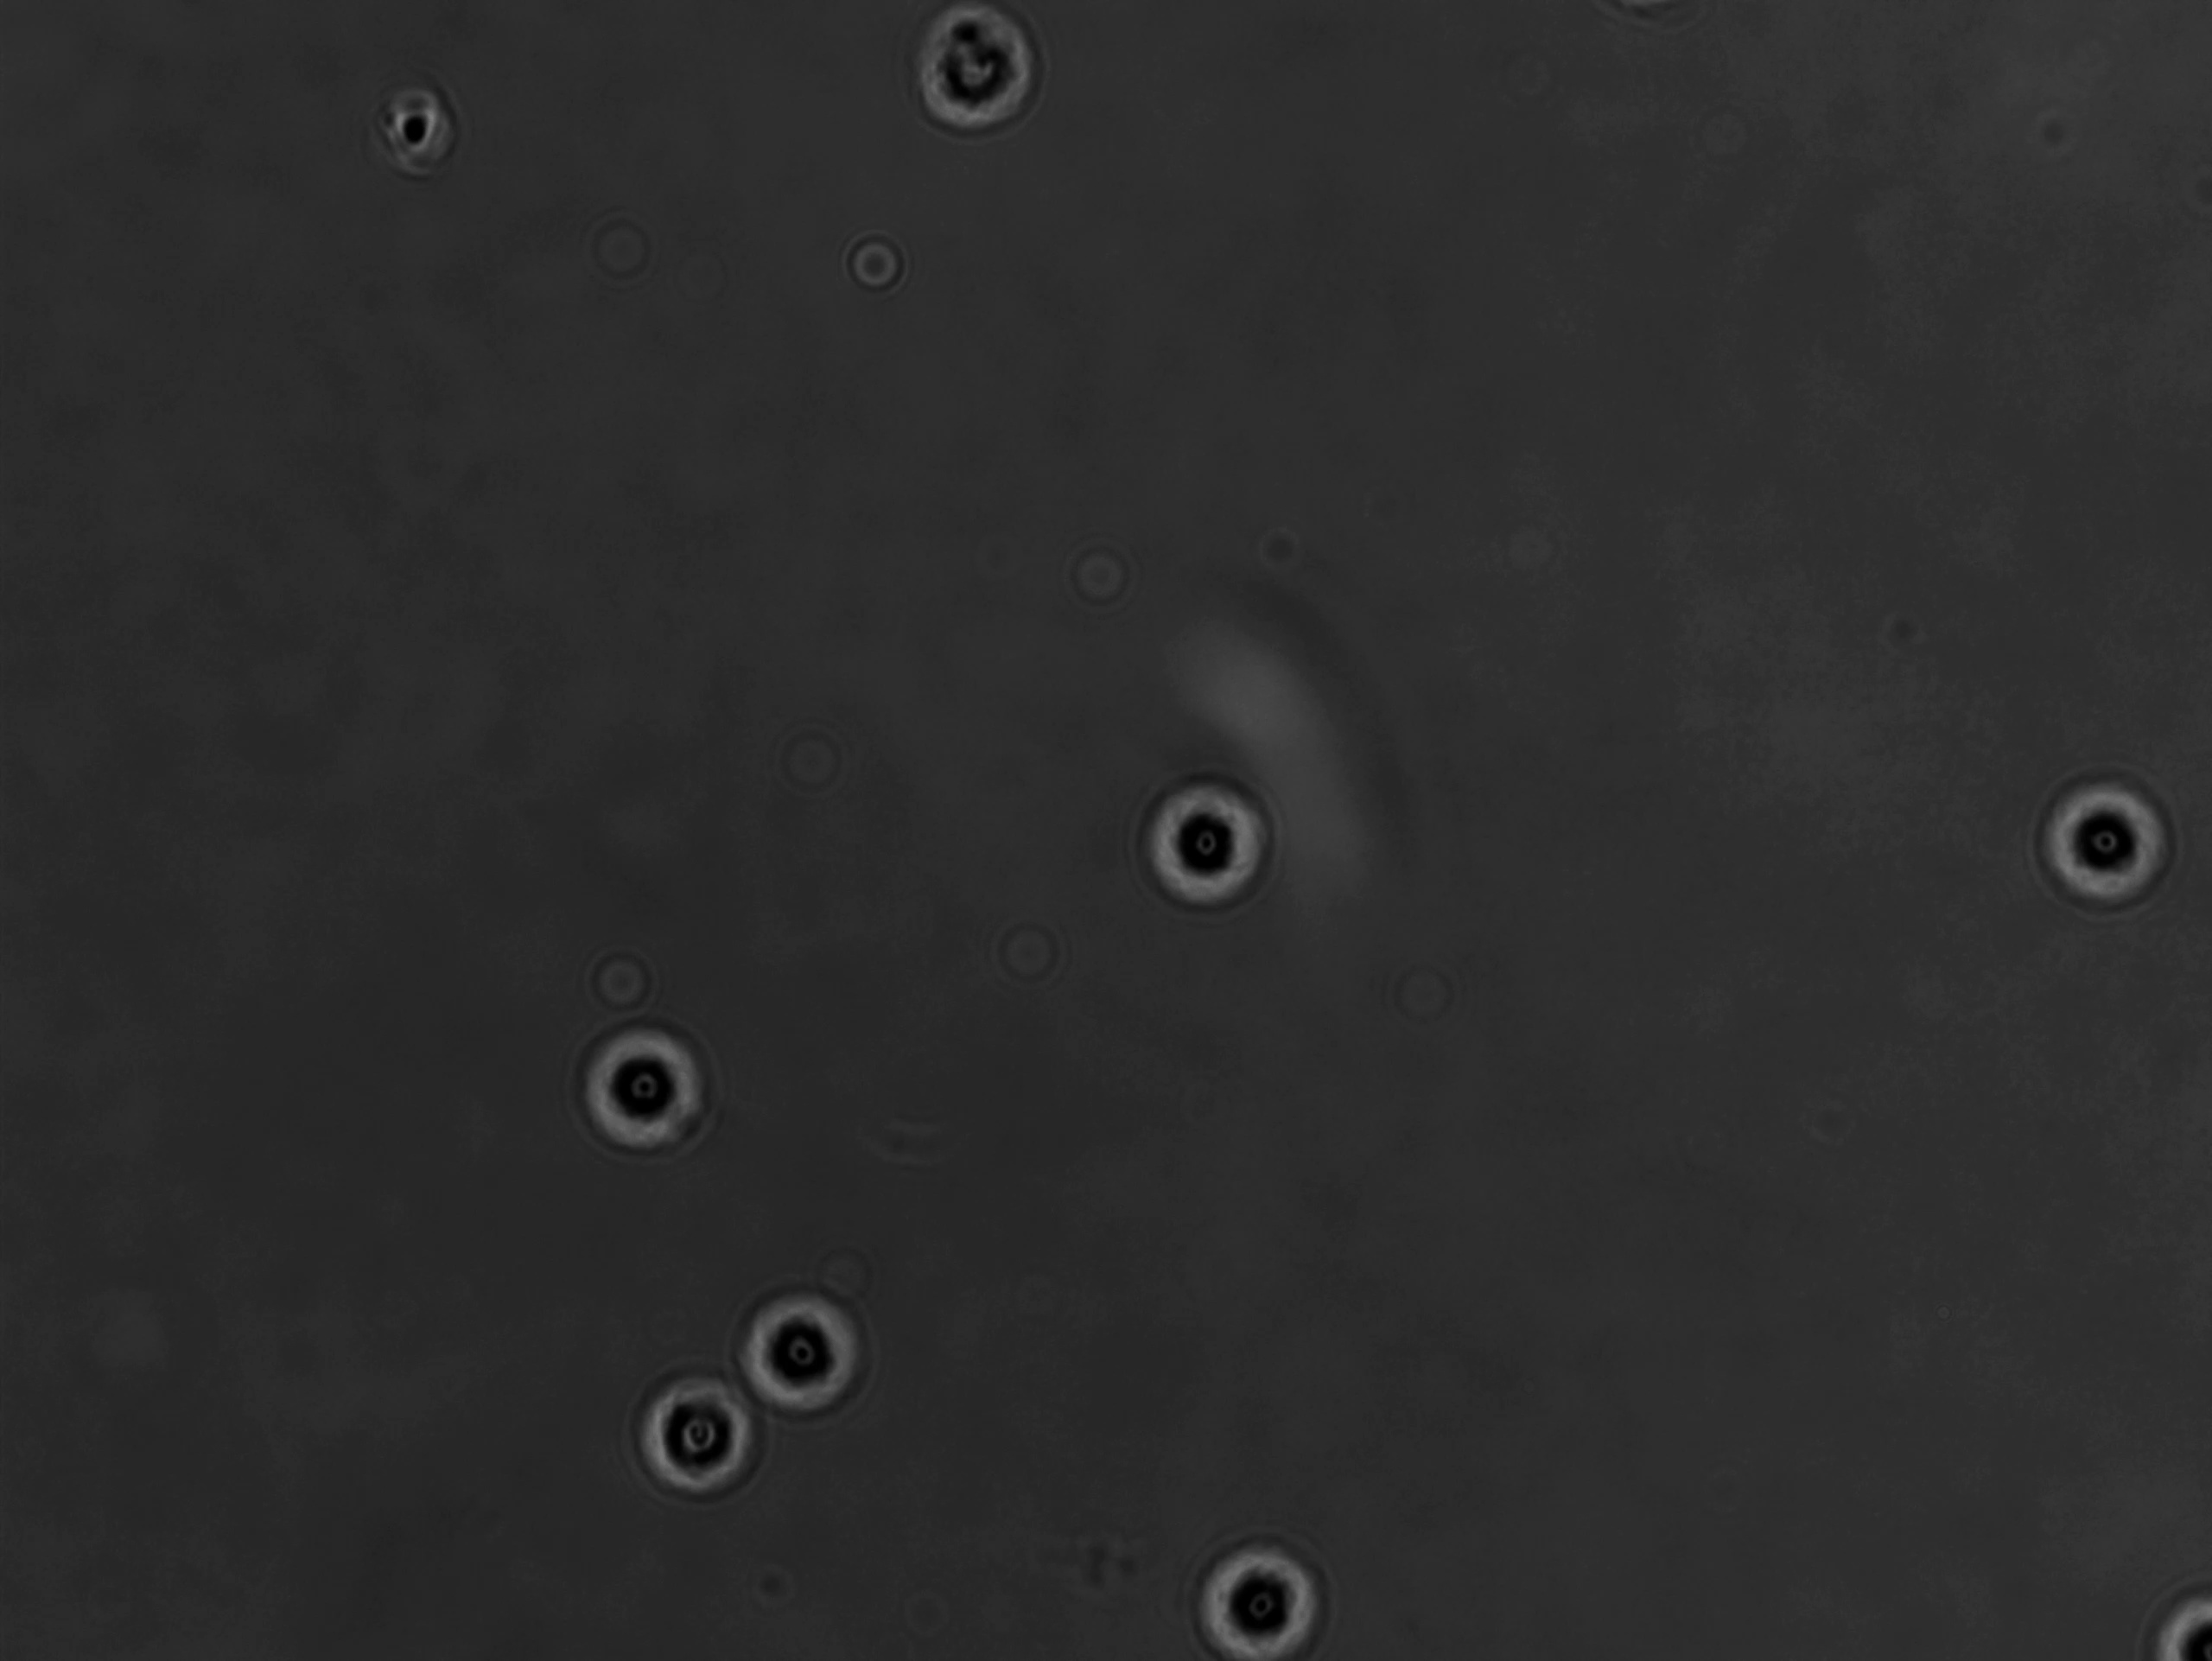depth:-20: (1116, 738, 1303, 930), (614, 1333, 797, 1514), (2018, 754, 2193, 933), (556, 989, 727, 1169), (712, 1251, 883, 1431), (1165, 1499, 1354, 1661)
